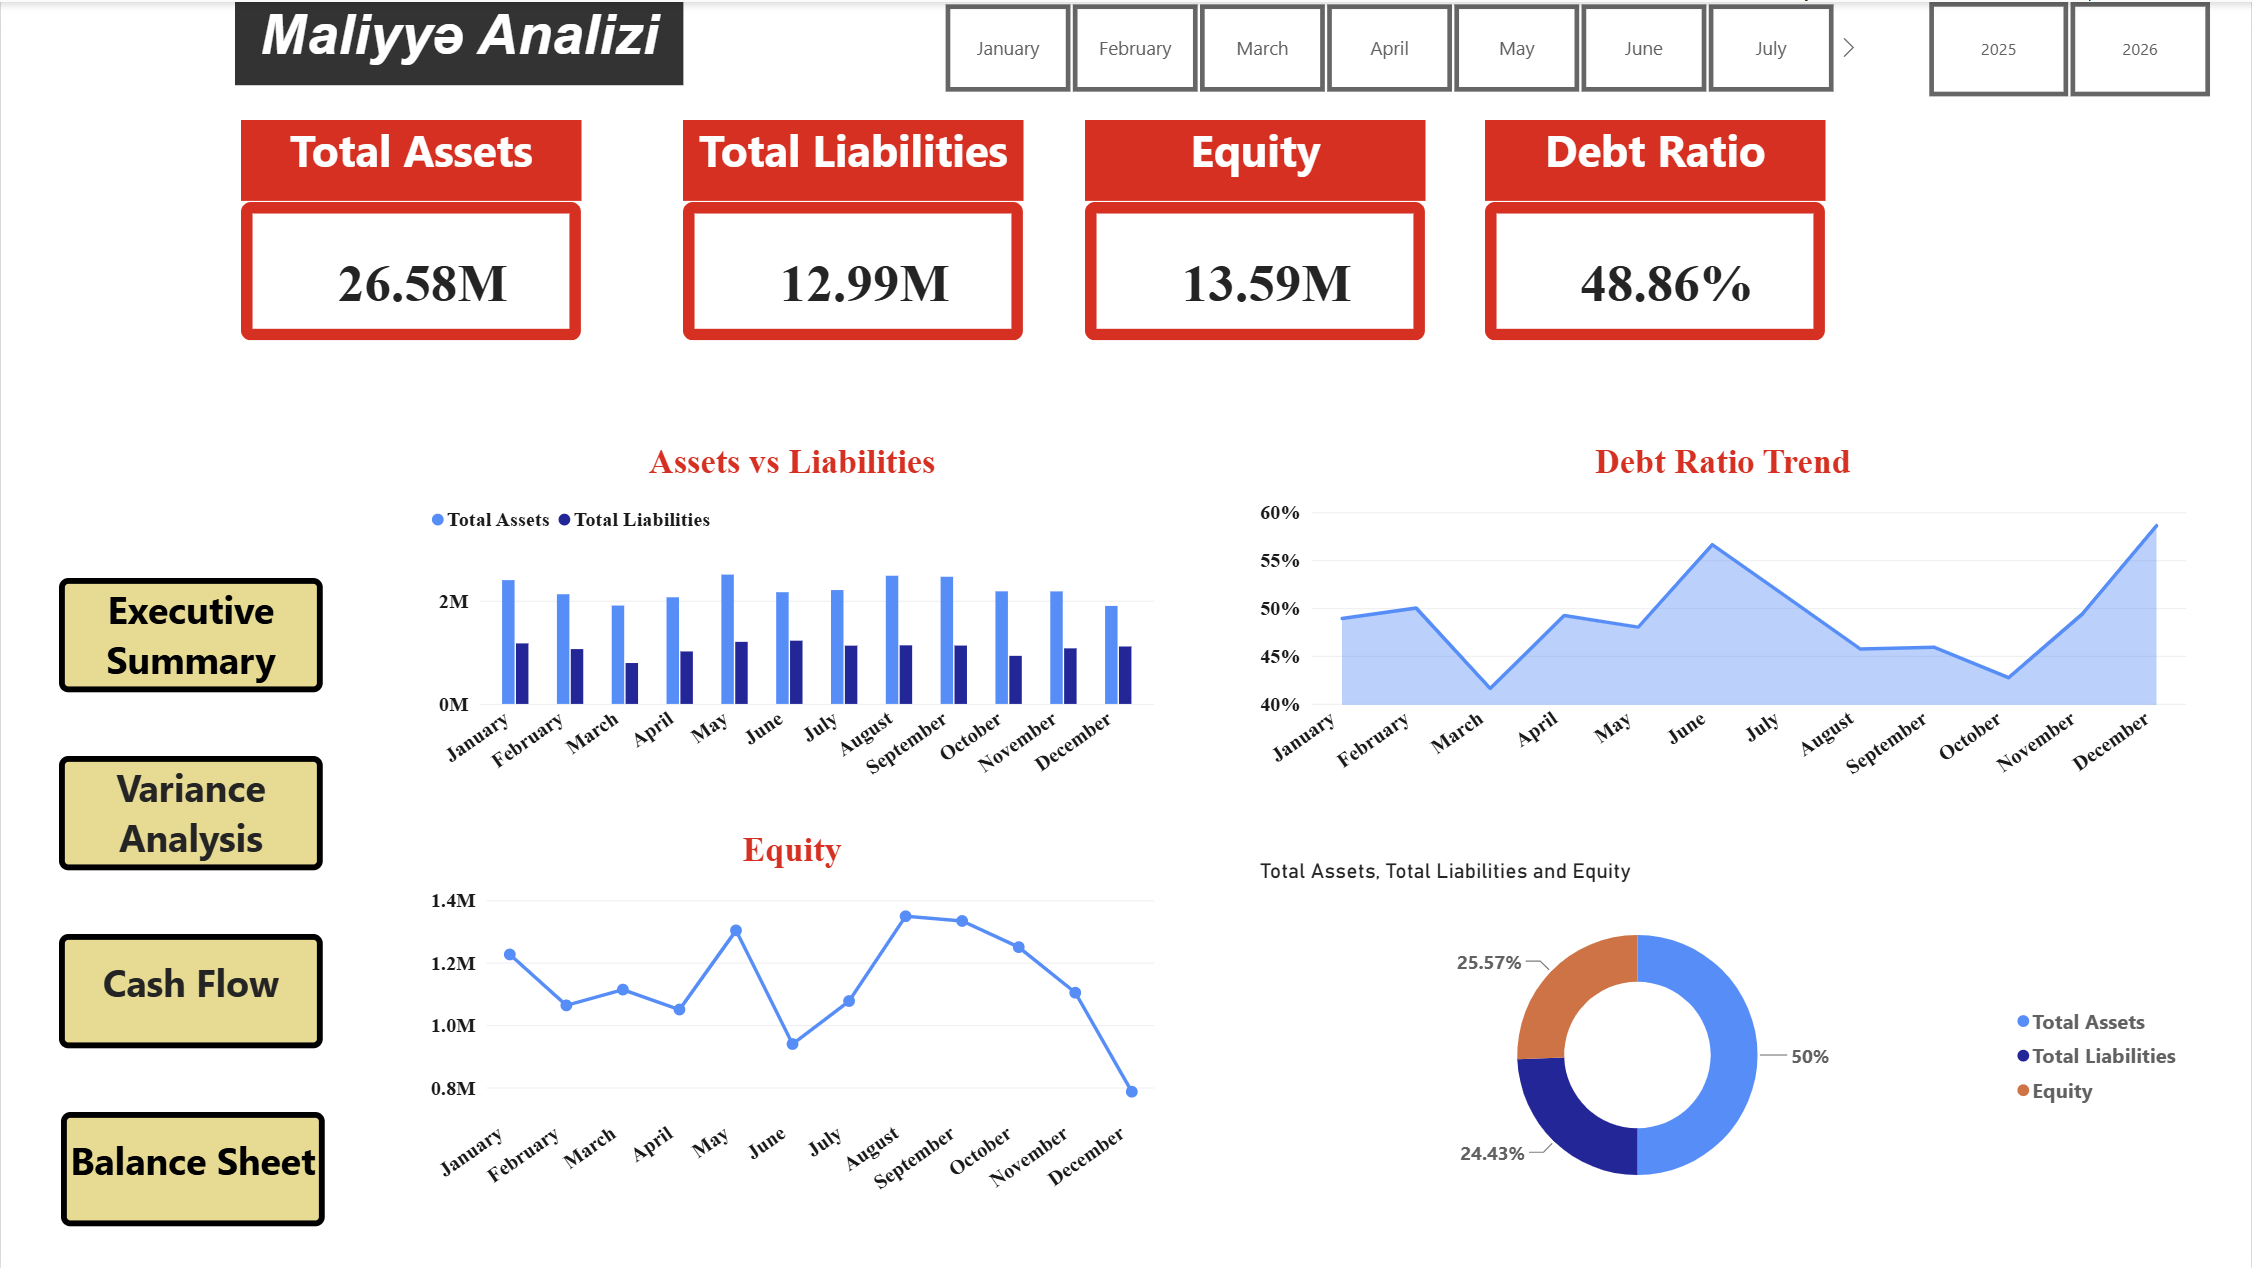

Layout of this report page (visuals, bound fields, positions):
{"tool":"powerbi","page":{"name":"Balance Sheet","canvas":[1920,1080],"ordinal":3},"visuals":[{"type":"textbox","box":[198.9,0,382.5,70.8],"z":0},{"type":"slicer","fields":{"Values":["DimDate.MonthName"]},"box":[784.1,0,797.5,78.4],"z":1000},{"type":"slicer","fields":{"Values":["DimDate.Year"]},"box":[1625.5,0,277.3,80.3],"z":2000},{"type":"cardVisual","fields":{"Data":["Measures (2).Assets"]},"box":[204.6,170.2,290.7,118.6],"z":3000},{"type":"cardVisual","fields":{"Data":["Measures (2).Liabilities"]},"box":[581.4,170.2,290.7,118.6],"z":4000},{"type":"cardVisual","fields":{"Data":["Measures (2).Equity"]},"box":[925.6,170.2,290.7,118.6],"z":5000},{"type":"cardVisual","fields":{"Data":["Measures (2).Debt Ratio"]},"box":[1266,170.2,290.7,118.6],"z":6000},{"type":"textbox","box":[204.6,101.4,290.7,68.8],"z":8000},{"type":"textbox","box":[581.4,101.4,290.7,68.8],"z":9000},{"type":"textbox","box":[925.6,101.4,290.7,68.8],"z":10000},{"type":"textbox","box":[1266,101.4,290.7,68.8],"z":11000},{"type":"textbox","box":[49.7,491.5,225,97.5],"z":13000},{"type":"textbox","box":[49.7,643.2,225,97.5],"z":14000},{"type":"textbox","box":[49,794.9,225,97.5],"z":15000},{"type":"textbox","box":[51.6,946.6,225,97.5],"z":16000},{"type":"actionButton","box":[49.7,491.5,225.7,99.4],"z":17000},{"type":"actionButton","box":[49.7,946.6,225.7,99.4],"z":18000},{"type":"actionButton","box":[51.6,795.5,225.7,99.4],"z":19000},{"type":"actionButton","box":[49.7,640.6,225.7,99.4],"z":20000},{"type":"clusteredColumnChart","title":"Assets vs Liabilities","fields":{"Category":["DimDate.MonthName"],"Y":["Measures (2).Assets","Measures (2).Liabilities"]},"box":[350,361.4,650.2,328.9],"z":20001},{"type":"lineChart","title":"Equity","fields":{"Category":["DimDate.MonthName"],"Y":["Measures (2).Equity"]},"box":[350,692.3,650.2,351.9],"z":20002},{"type":"areaChart","title":"Debt Ratio Trend","fields":{"Category":["DimDate.MonthName"],"Y":["Measures (2).Debt Ratio"]},"box":[1057.5,361.4,822.3,328.9],"z":20003},{"type":"donutChart","fields":{"Y":["Measures (2).Total Assets","Measures (2).Total Liabilities","Measures (2).Equity"]},"box":[1057.5,717.1,822.3,328.9],"z":20004}]}

Visuals, with their boxes in screenshot pixels (x1, y1, x2, y2), scaled from the page's 1920x1080 canvas onto the 2252x1268 screenshot:
textbox: left=233, top=0, right=682, bottom=83
slicer - DimDate.MonthName: left=920, top=0, right=1855, bottom=92
slicer - DimDate.Year: left=1907, top=0, right=2232, bottom=94
cardVisual - Measures (2).Assets: left=240, top=200, right=581, bottom=339
cardVisual - Measures (2).Liabilities: left=682, top=200, right=1023, bottom=339
cardVisual - Measures (2).Equity: left=1086, top=200, right=1427, bottom=339
cardVisual - Measures (2).Debt Ratio: left=1485, top=200, right=1826, bottom=339
textbox: left=240, top=119, right=581, bottom=200
textbox: left=682, top=119, right=1023, bottom=200
textbox: left=1086, top=119, right=1427, bottom=200
textbox: left=1485, top=119, right=1826, bottom=200
textbox: left=58, top=577, right=322, bottom=692
textbox: left=58, top=755, right=322, bottom=870
textbox: left=57, top=933, right=321, bottom=1048
textbox: left=61, top=1111, right=324, bottom=1226
actionButton: left=58, top=577, right=323, bottom=694
actionButton: left=58, top=1111, right=323, bottom=1228
actionButton: left=61, top=934, right=325, bottom=1051
actionButton: left=58, top=752, right=323, bottom=869
"Assets vs Liabilities" clusteredColumnChart: left=411, top=424, right=1173, bottom=810
"Equity" lineChart: left=411, top=813, right=1173, bottom=1226
"Debt Ratio Trend" areaChart: left=1240, top=424, right=2205, bottom=810
donutChart - Measures (2).Total Assets x Measures (2).Total Liabilities: left=1240, top=842, right=2205, bottom=1228
